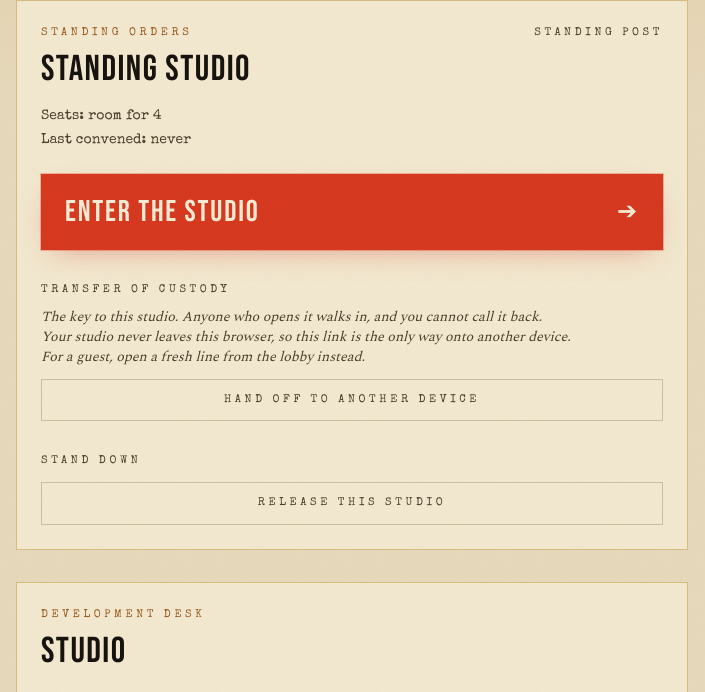
it: Release this studio arms rather than releasing on the first click
What coordinates should you click on to do the following:
click the button "Release this studio"
I would click on:
 (352, 504)
Its box is [41,482,663,525].
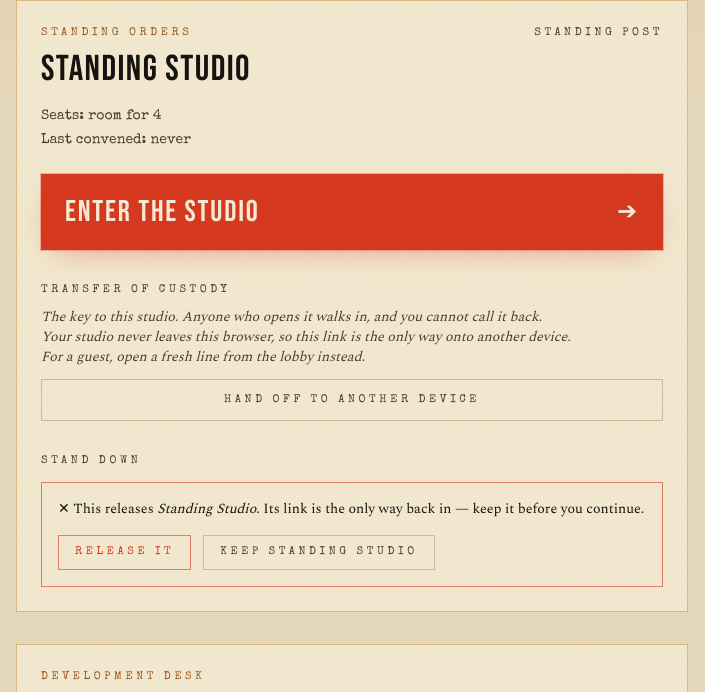
Check: the button "Release it" is shown, box [58,535,191,570]
Check: the button "Keep Standing Studio" is shown, box [203,535,435,570]
